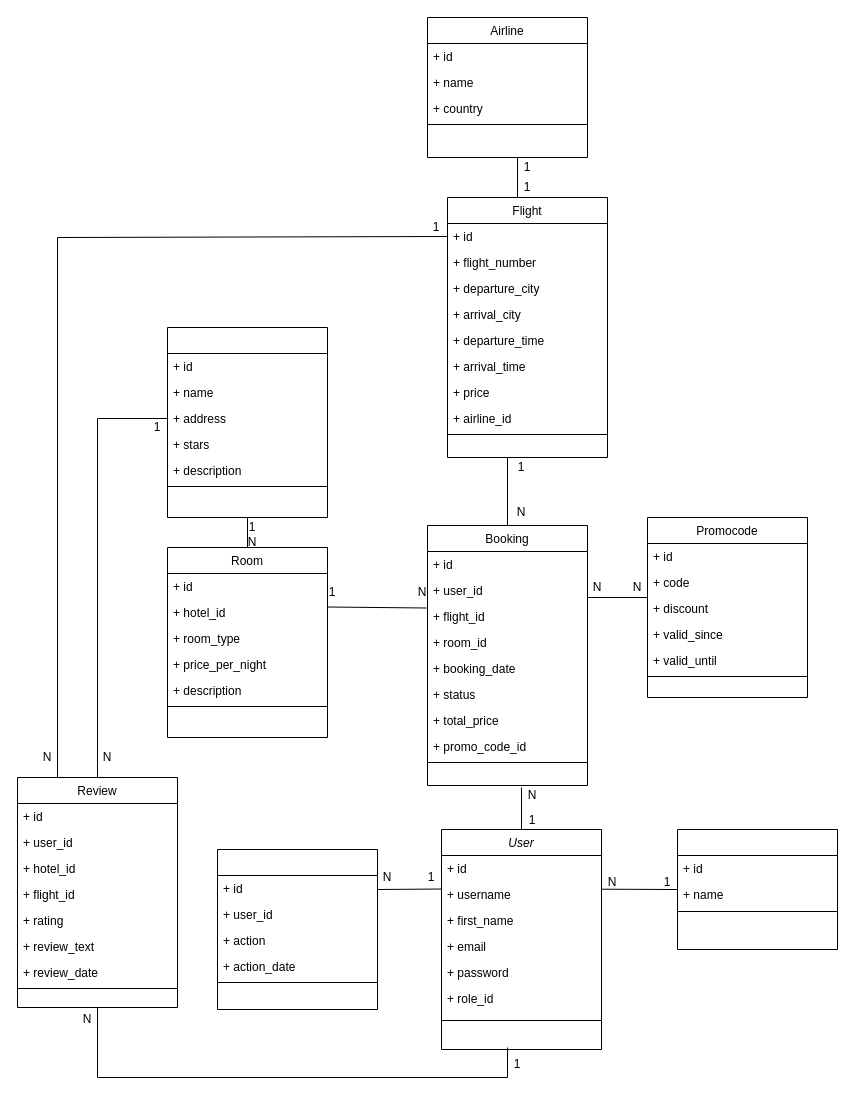
Some shapes in this 855 by 1097 pixel diagram are drawn without their labels. The shapes that lost their labels are listed below. From the top down, each one's box as (x1, y1, x2, y2) in pixels, then its label:
(166, 326, 328, 518): Hotel
(676, 828, 838, 950): Role
(216, 848, 378, 1010): UserAction
